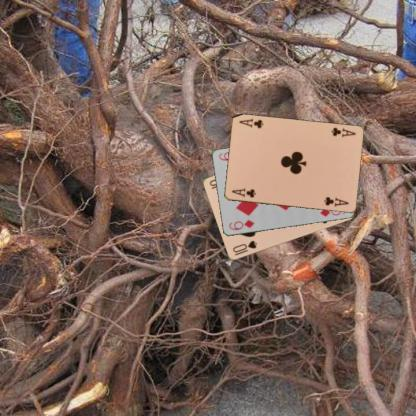10s: (230, 238, 258, 257)
6d: (226, 217, 256, 232)
Ac: (328, 124, 357, 138), (229, 185, 257, 199)
